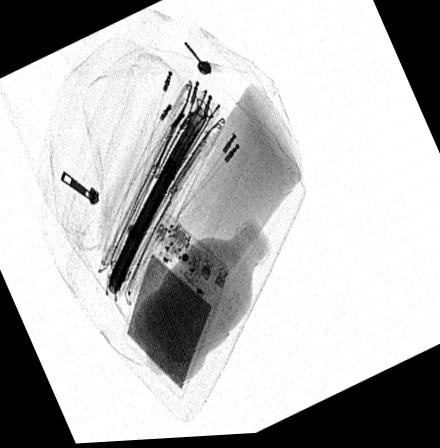Powerbank: (123, 217, 228, 402)
